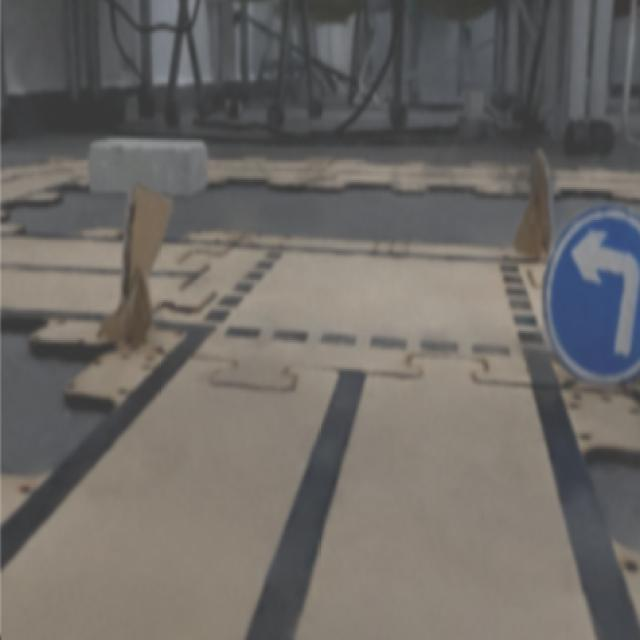LEFT: (545, 207, 639, 382)
